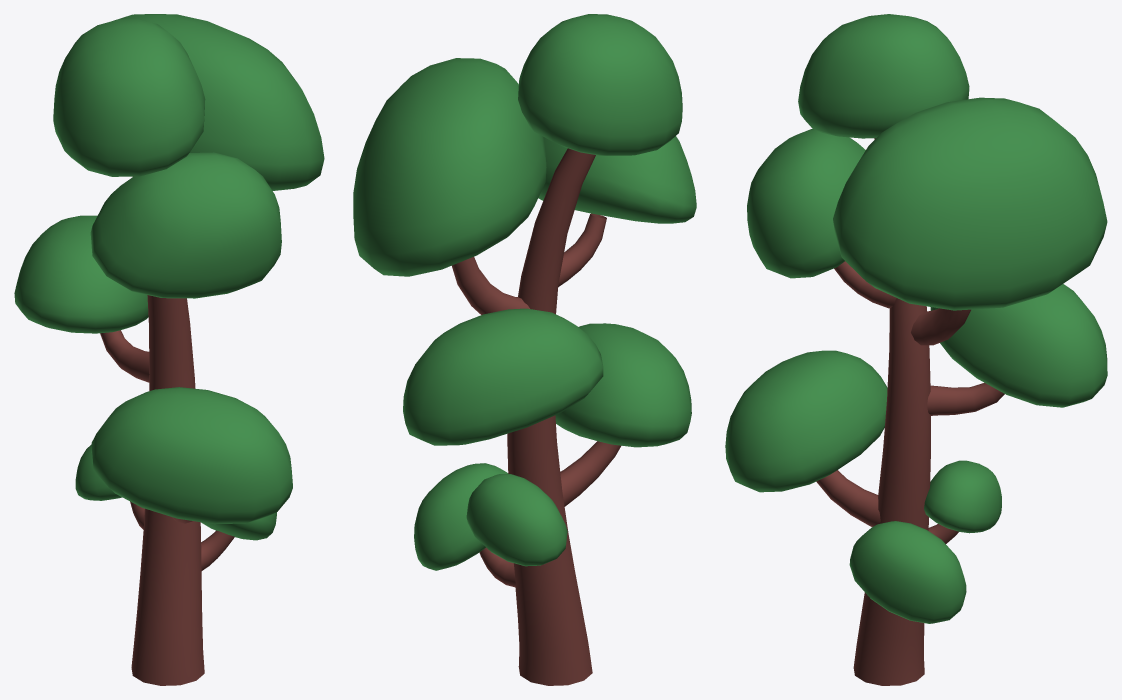
The model's file is tree02.fbx.
The picture shows the model from 3 angles, left to right: view 1: azimuth 30°, elevation 25°; view 2: azimuth 150°, elevation 25°; view 3: azimuth 270°, elevation 25°; orthographic projection. The views are drawn at different scales.
Parts seen in each view (by area): view 1: Cube.023, Cube.025, Cube.021, Cube.022, BézierCurve.015, Cube.024, BézierCurve.018, Cube.027, Cube.026, BézierCurve.020; view 2: Cube.022, Cube.024, Cube.021, BézierCurve.015, Cube.025, Cube.023, Cube.027, Cube.026, BézierCurve.019, BézierCurve.016, BézierCurve.017, BézierCurve.020; view 3: Cube.022, Cube.025, Cube.021, BézierCurve.015, Cube.024, Cube.023, Cube.026, Cube.027, BézierCurve.018, BézierCurve.016, BézierCurve.019, BézierCurve.017.
Boxes of the visible parts, x1,y1,x2,y2 form: Cube.023: (90,152,281,298); Cube.025: (91,387,292,524); Cube.021: (53,19,205,176); Cube.022: (114,14,324,190); BézierCurve.015: (131,295,204,685); Cube.024: (14,215,148,333); BézierCurve.018: (100,330,149,382); Cube.027: (75,444,121,500); Cube.026: (201,512,276,540); BézierCurve.020: (201,530,234,570); Cube.022: (353,58,546,276); Cube.024: (403,308,603,445); Cube.021: (518,14,682,155); BézierCurve.015: (507,148,595,685); Cube.025: (555,323,691,447); Cube.023: (538,136,696,223); Cube.027: (466,474,567,566); Cube.026: (414,463,508,570); BézierCurve.019: (452,257,529,314); BézierCurve.016: (560,441,621,506); BézierCurve.017: (558,213,606,286); BézierCurve.020: (479,547,515,587); Cube.022: (833,97,1107,310); Cube.025: (725,350,887,492); Cube.021: (798,14,969,138); BézierCurve.015: (853,138,930,685); Cube.024: (930,284,1107,407); Cube.023: (747,129,865,278); Cube.026: (849,521,966,623); Cube.027: (924,460,1001,533); BézierCurve.018: (927,383,1004,415); BézierCurve.016: (816,470,880,526); BézierCurve.019: (911,308,970,345); BézierCurve.017: (834,261,896,308).
Size of the model in its own units: 296 by 694 by 380.
